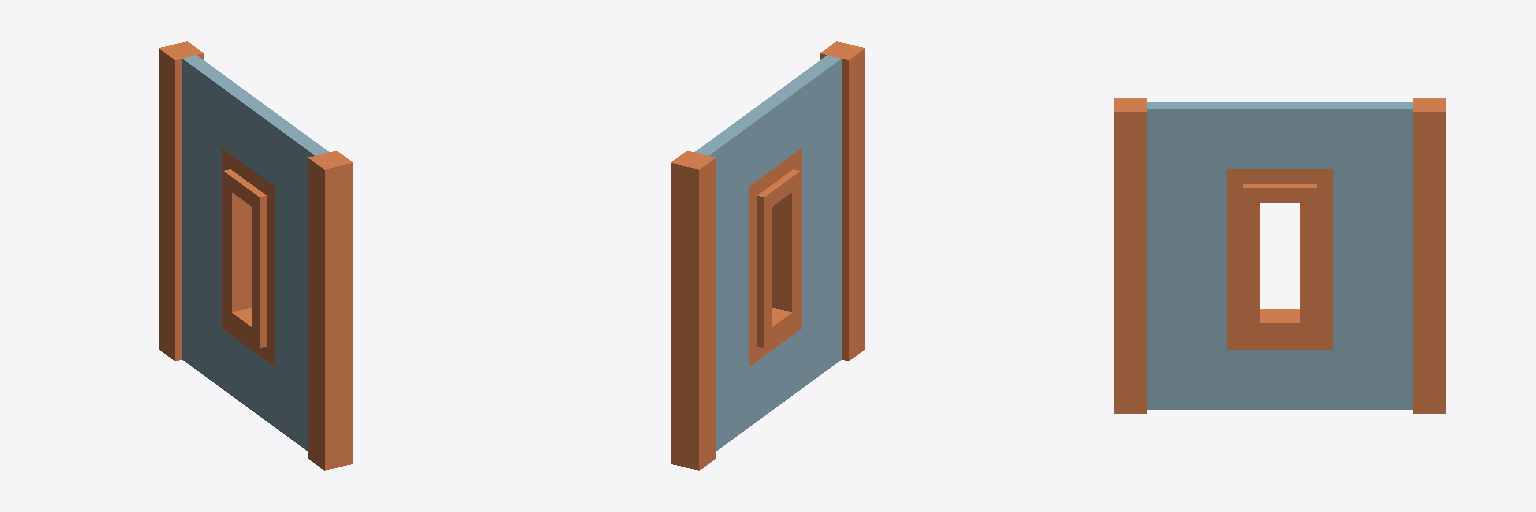
Rendered from wallWindowSmall.obj.
3 views of the same model, side by side, from view 1: azimuth 30°, elevation 25°; view 2: azimuth 150°, elevation 25°; view 3: azimuth 270°, elevation 25° (orthographic).
Parts seen in each view (by area): view 1: wallWindowSmall; view 2: wallWindowSmall; view 3: wallWindowSmall.
Boxes of the visible parts, x1,y1,x2,y2 form: wallWindowSmall: [159, 41, 352, 470]; wallWindowSmall: [671, 41, 864, 470]; wallWindowSmall: [1114, 98, 1445, 413].
Bounding box in the file's own units: 0.1 × 1 × 1.